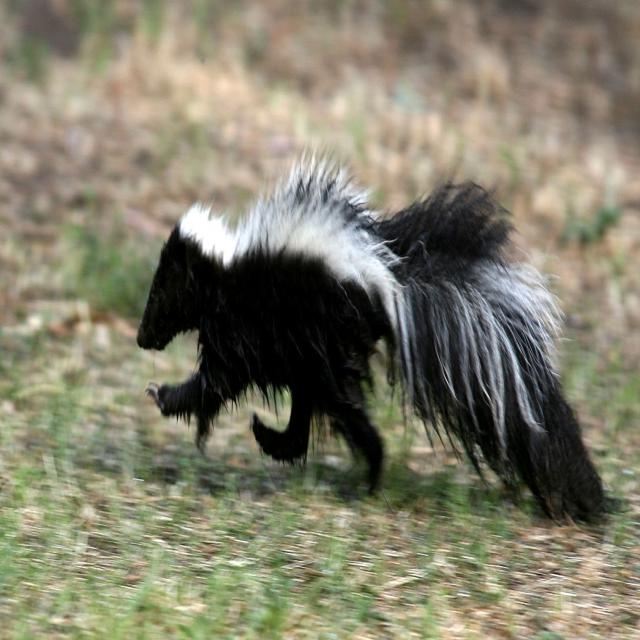Skunk: (134, 111, 608, 537)
